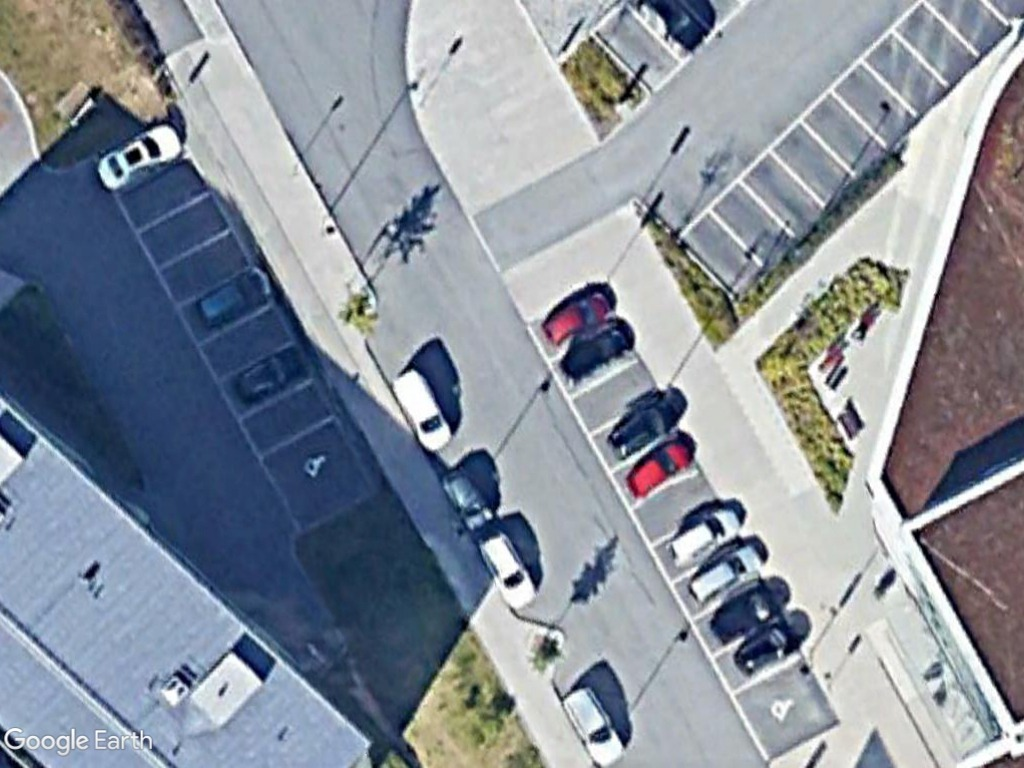car: (94, 118, 185, 194), (680, 538, 769, 609), (561, 683, 630, 768), (557, 320, 638, 391), (665, 504, 746, 570), (478, 525, 538, 610), (535, 286, 613, 350), (604, 396, 676, 462), (623, 435, 696, 499), (729, 618, 804, 678), (440, 467, 499, 539)
van: (387, 365, 458, 458)
